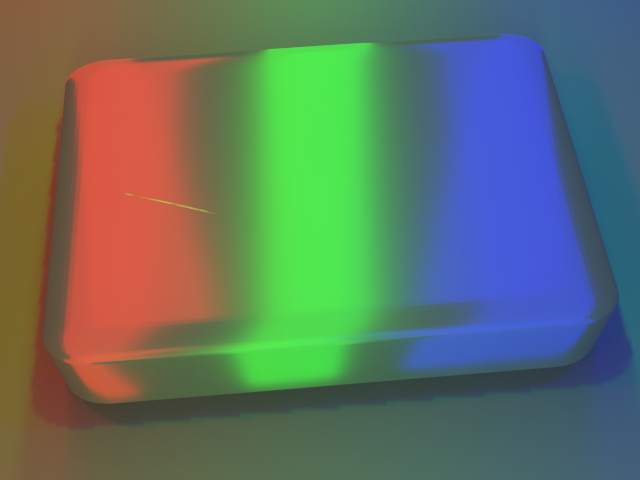scratch: (29, 114, 294, 289)
